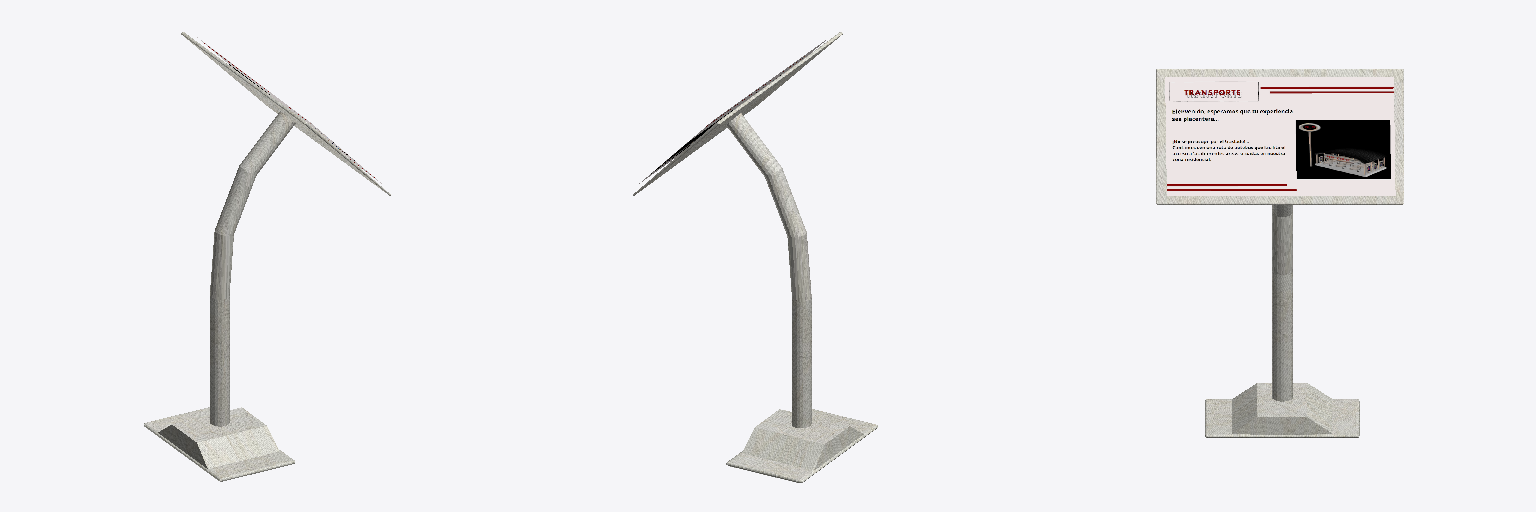
3 renders of one model, left to right at view 1: azimuth 30°, elevation 25°; view 2: azimuth 150°, elevation 25°; view 3: azimuth 270°, elevation 25°, orthographic.
Visible parts, largest first — view 1: Tube001, ChamferBox001, ChamferBox002; view 2: Tube001, ChamferBox001, ChamferBox002, Plane001; view 3: Plane001, ChamferBox001, ChamferBox002, Tube001.
Part boxes in pixels (bbox=[...]): Tube001: bbox=[210, 111, 295, 426]; ChamferBox001: bbox=[144, 407, 294, 481]; ChamferBox002: bbox=[181, 32, 390, 195]; Tube001: bbox=[726, 113, 811, 427]; ChamferBox001: bbox=[726, 409, 877, 482]; ChamferBox002: bbox=[633, 32, 842, 195]; Plane001: bbox=[639, 40, 825, 183]; Plane001: bbox=[1165, 77, 1395, 195]; ChamferBox001: bbox=[1205, 383, 1359, 437]; ChamferBox002: bbox=[1156, 69, 1403, 204]; Tube001: bbox=[1272, 205, 1292, 401].
Size of the model in its own units: 10.76 by 25.3 by 15.66.
2 materials, 2 textured.